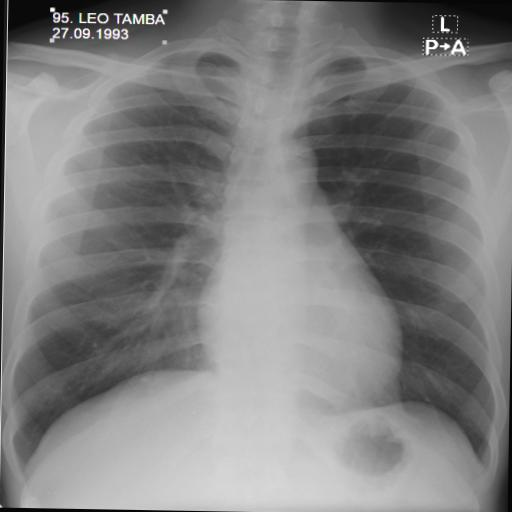normal: (5, 19, 512, 495)
